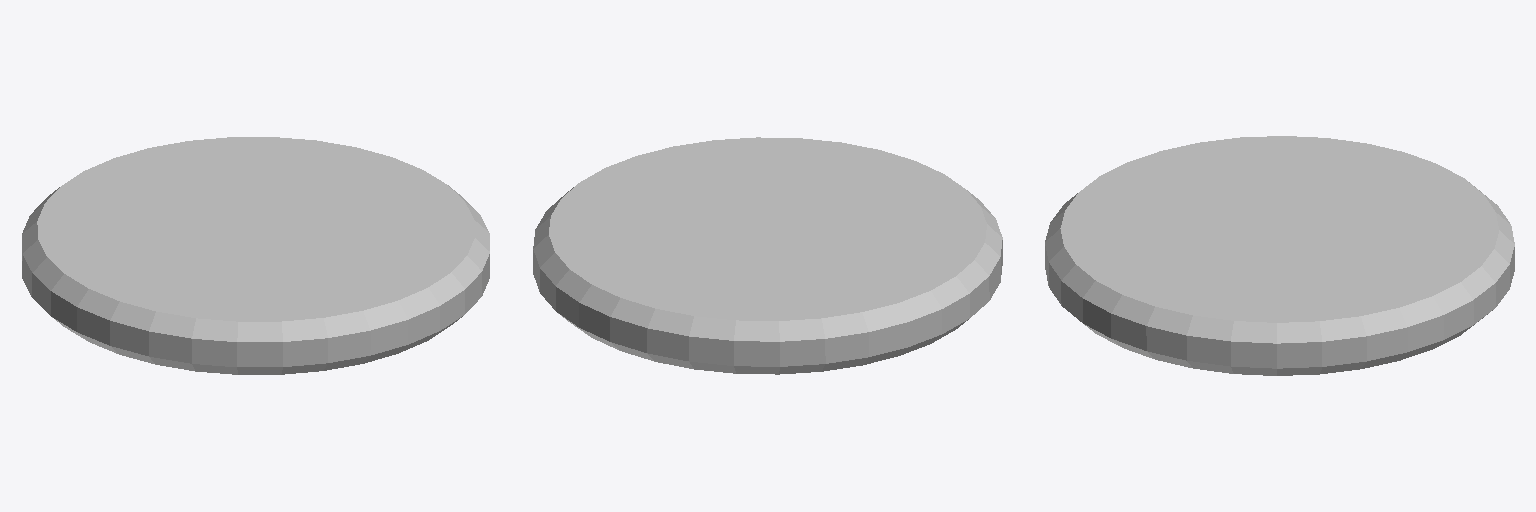
The model's file is Pattie.obj.
3 views of the same model, side by side, from view 1: azimuth 30°, elevation 25°; view 2: azimuth 150°, elevation 25°; view 3: azimuth 270°, elevation 25° (orthographic).
Parts seen in each view (by area): view 1: burger_pattie:Mesh; view 2: burger_pattie:Mesh; view 3: burger_pattie:Mesh.
Part boxes in pixels (x1,y1,x2,y2): burger_pattie:Mesh: (22,137,489,374); burger_pattie:Mesh: (533,137,1002,374); burger_pattie:Mesh: (1045,136,1514,375).
Size of the model in its own units: 2 by 0.2581 by 2.